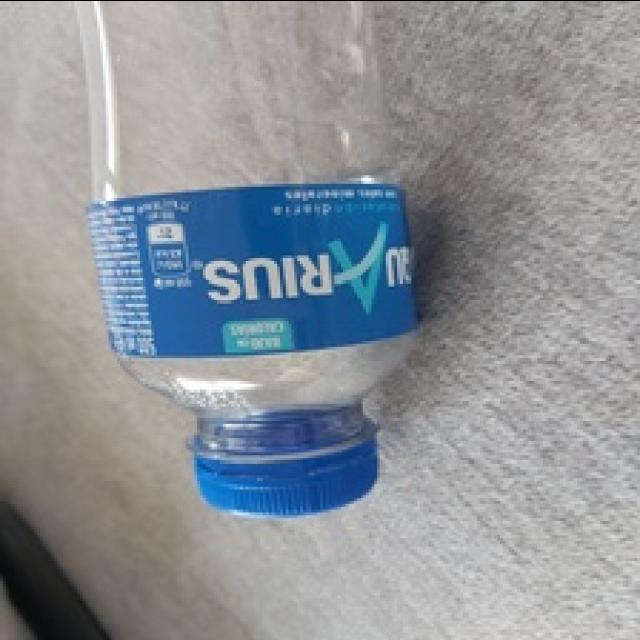寶特瓶: (111, 1, 415, 518)
